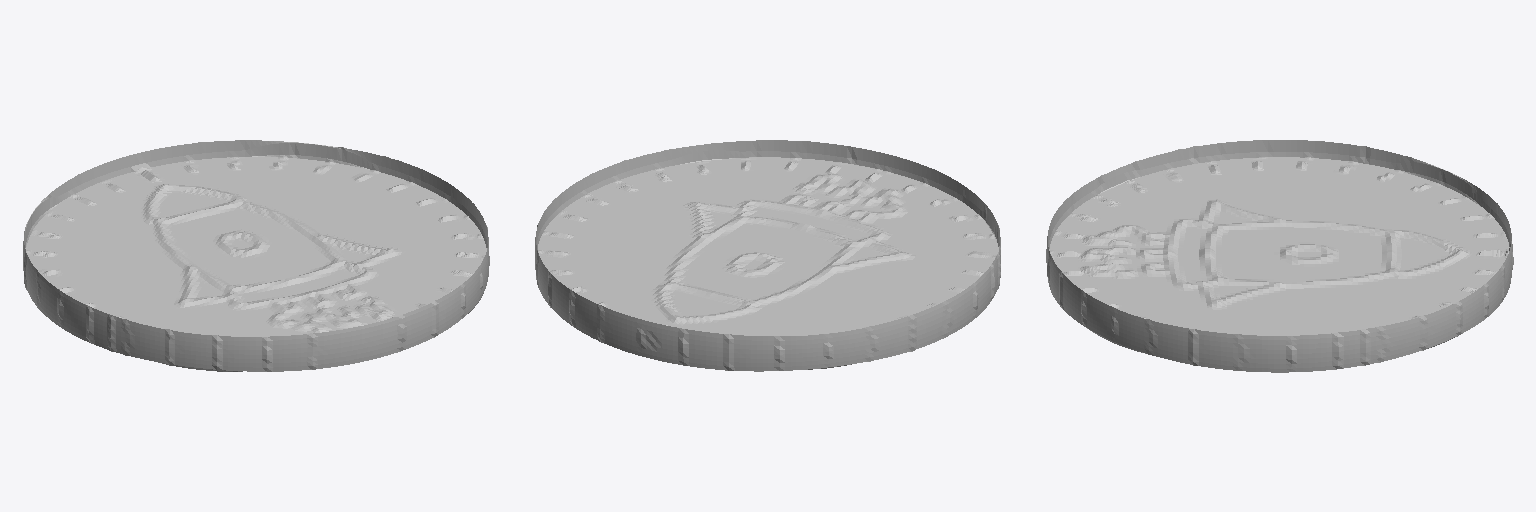
The model's file is Coin.obj.
3 renders of one model, left to right at view 1: azimuth 30°, elevation 25°; view 2: azimuth 150°, elevation 25°; view 3: azimuth 270°, elevation 25°, orthographic.
Parts seen in each view (by area): view 1: Quad_Sphere; view 2: Quad_Sphere; view 3: Quad_Sphere.
Part boxes in pixels (left/top/right/bottom): Quad_Sphere: left=23, top=140, right=489, bottom=371; Quad_Sphere: left=535, top=140, right=1000, bottom=371; Quad_Sphere: left=1046, top=140, right=1513, bottom=372.
Bounding box in the file's own units: 2.58 × 0.2289 × 2.57.